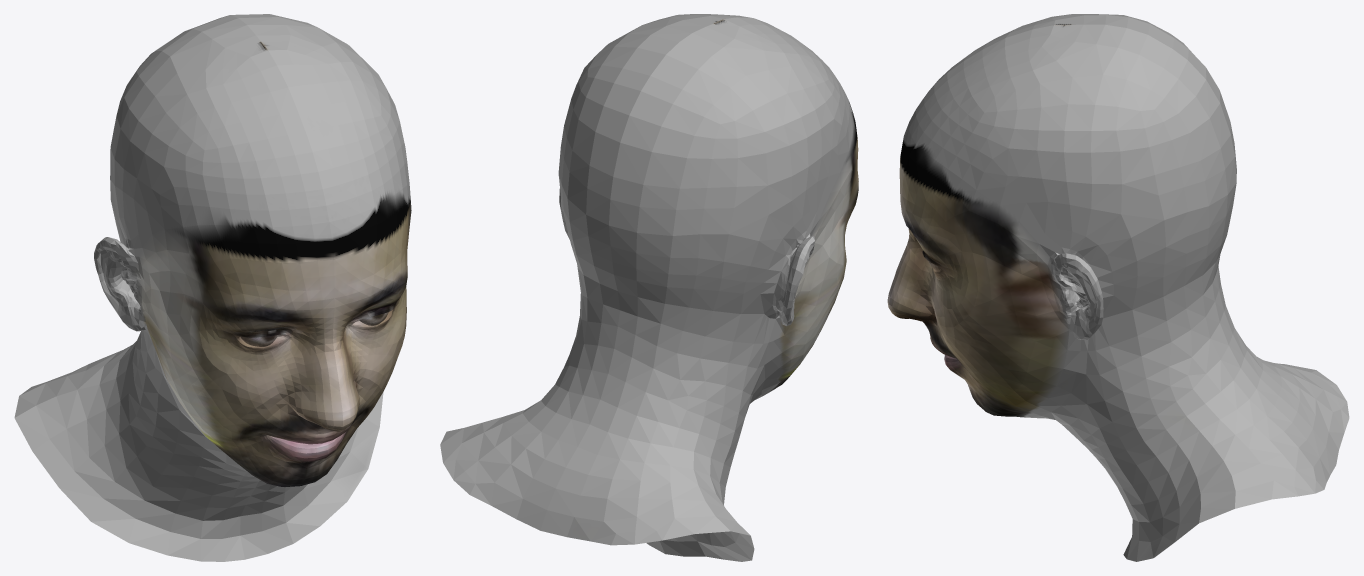
File: ezgif-frame-073.obj
3 views of the same model, side by side, from view 1: azimuth 30°, elevation 25°; view 2: azimuth 150°, elevation 25°; view 3: azimuth 270°, elevation 25° (orthographic). The views are drawn at different scales.
Bounding box in the file's own units: 0.2081 × 0.3286 × 0.2678.
1 material, 1 textured.
